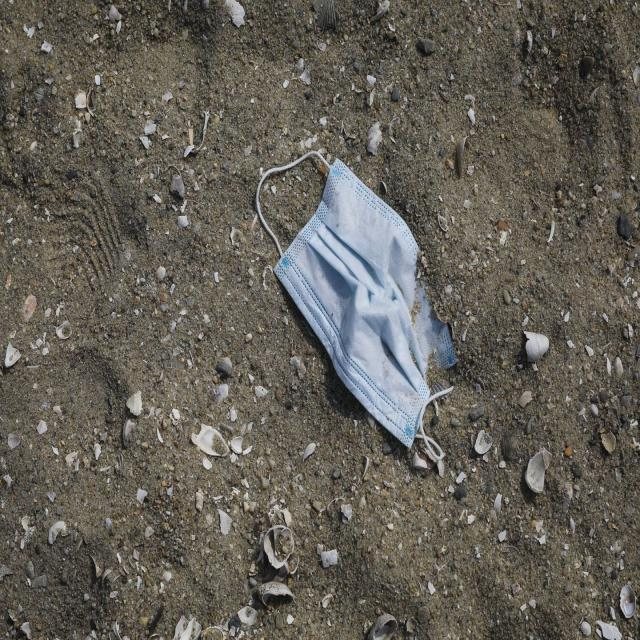face mask: (258, 150, 458, 478)
